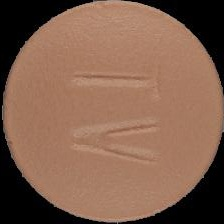53808-0792: (0, 0, 224, 224)
